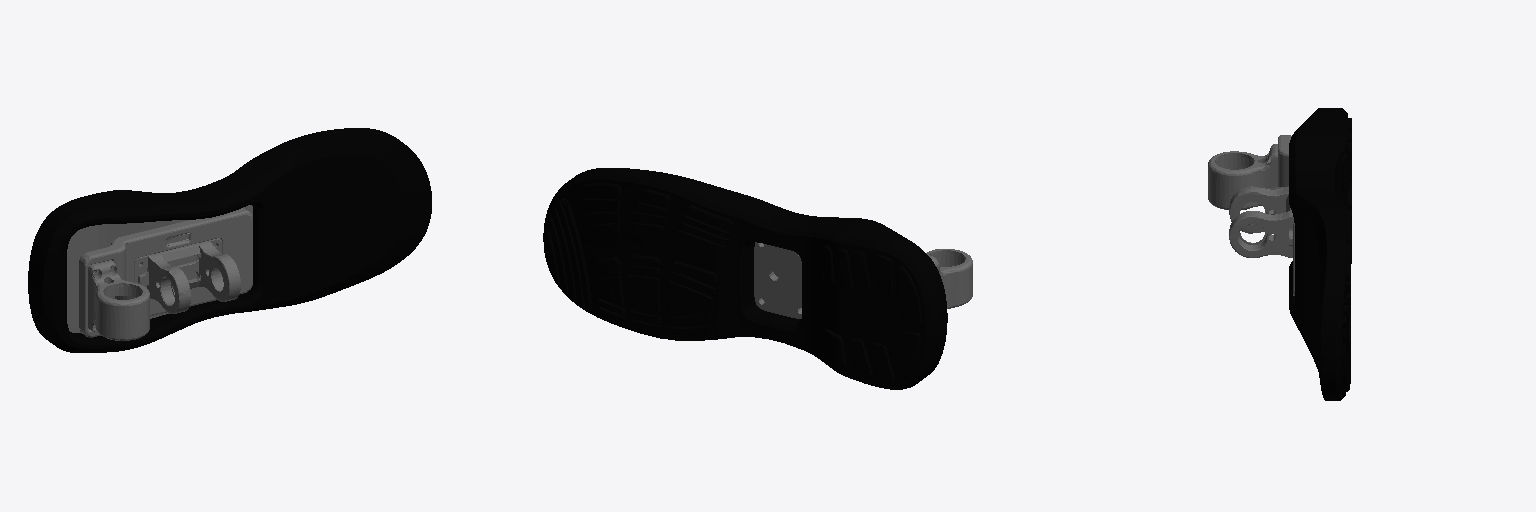
File: left_foot_roll_link.obj
The picture shows the model from 3 angles: view 1: azimuth 30°, elevation 25°; view 2: azimuth 150°, elevation 25°; view 3: azimuth 270°, elevation 25°; orthographic projection.
Parts seen in each view (by area): view 1: left_foot_roll_link; view 2: left_foot_roll_link; view 3: left_foot_roll_link.
Part boxes in pixels (x1,y1,x2,y2): left_foot_roll_link: (28,128,431,352); left_foot_roll_link: (543,168,972,389); left_foot_roll_link: (1208,108,1351,400).
Bounding box in the file's own units: 0.2514 × 0.0962 × 0.0799.